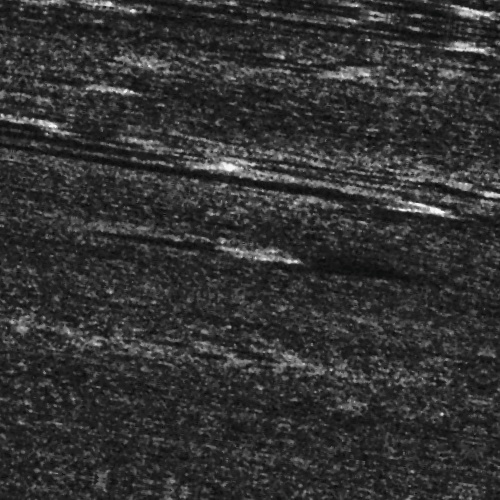object: (94, 159, 323, 176), (32, 99, 157, 112), (384, 7, 489, 22), (340, 173, 445, 184), (205, 246, 298, 257), (0, 144, 55, 157), (291, 52, 364, 61), (270, 58, 353, 65), (438, 154, 500, 159), (366, 64, 419, 69), (220, 355, 251, 360), (312, 0, 365, 2)
shadow: (131, 7, 436, 22), (10, 173, 392, 184), (0, 159, 208, 176), (92, 246, 251, 257), (0, 99, 94, 112), (248, 154, 475, 159), (249, 52, 327, 61), (232, 58, 311, 65), (463, 443, 500, 456), (155, 355, 236, 360), (315, 64, 392, 69), (260, 0, 339, 2)
